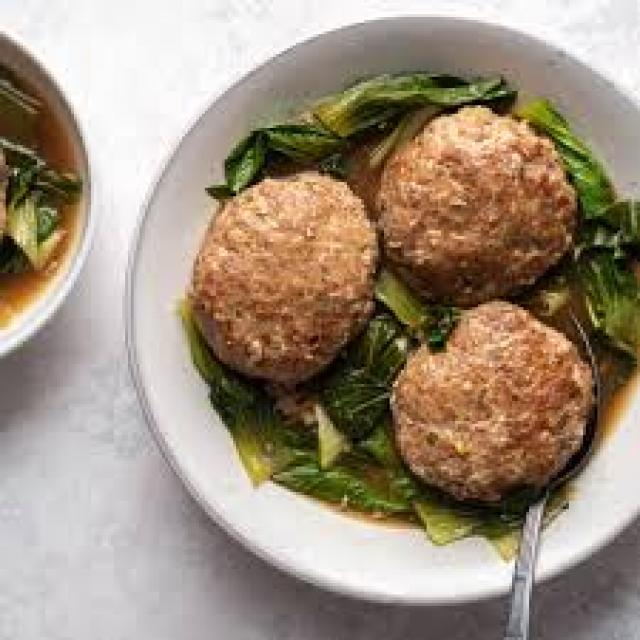Meatball: (372, 290, 608, 510), (182, 174, 402, 402), (369, 103, 590, 322)
